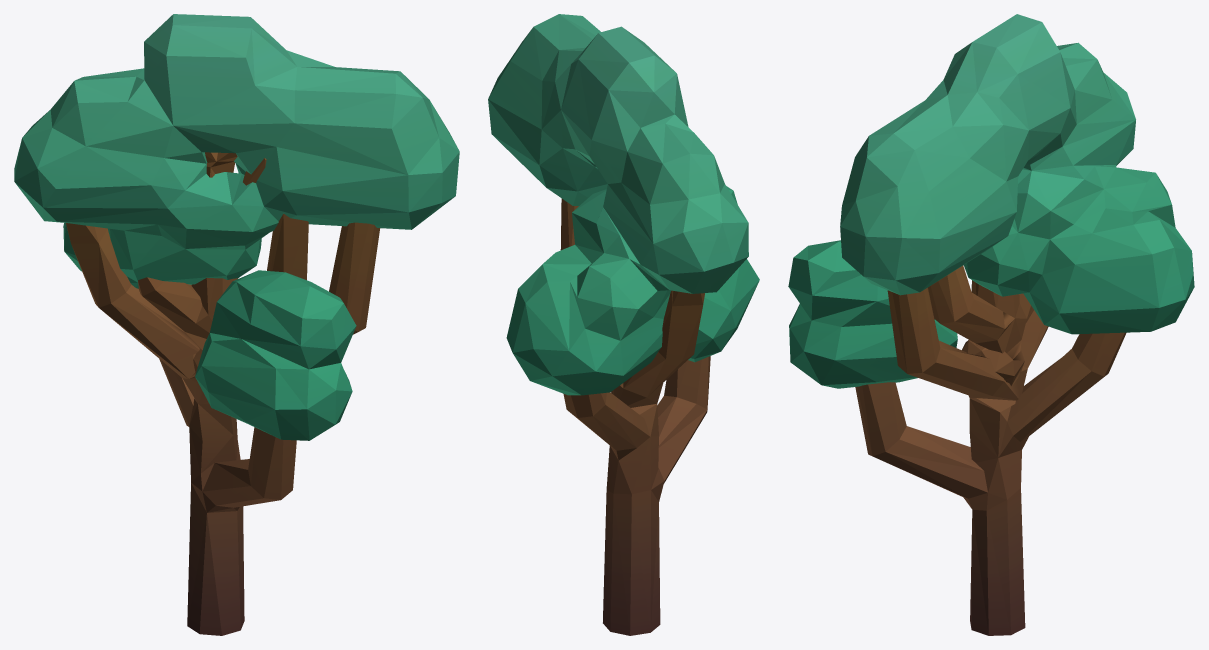
File: EucaliptoSolo.fbx
3 renders of one model, left to right at view 1: azimuth 30°, elevation 25°; view 2: azimuth 150°, elevation 25°; view 3: azimuth 270°, elevation 25°, orthographic. The views are drawn at different scales.
Visible parts, largest first — view 1: Eucalipto02; view 2: Eucalipto02; view 3: Eucalipto02.
Boxes of the visible parts, <box> form: Eucalipto02: <box>14,14,459,635</box>; Eucalipto02: <box>488,14,759,635</box>; Eucalipto02: <box>788,14,1194,635</box>.
Size of the model in its own units: 343 by 579 by 358.
